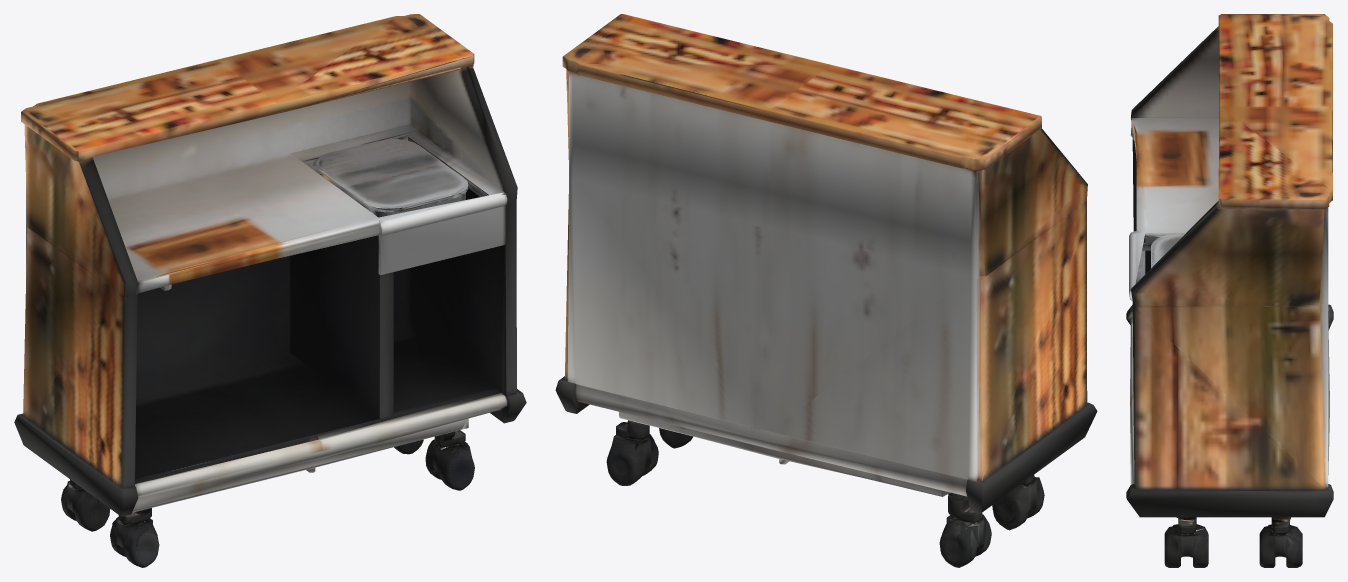
The model's file is bar0127181910_texture.glb.
3 views of the same model, side by side, from view 1: azimuth 30°, elevation 25°; view 2: azimuth 150°, elevation 25°; view 3: azimuth 270°, elevation 25° (orthographic). The views are drawn at different scales.
Parts seen in each view (by area): view 1: Mesh_0; view 2: Mesh_0; view 3: Mesh_0.
Part boxes in pixels (x1,y1,x2,y2): Mesh_0: [14, 14, 526, 567]; Mesh_0: [555, 14, 1097, 567]; Mesh_0: [1126, 14, 1333, 567].
Size of the model in its own units: 1.11 by 1.07 by 0.5174.
Materials: 1 (1 with a texture image).
